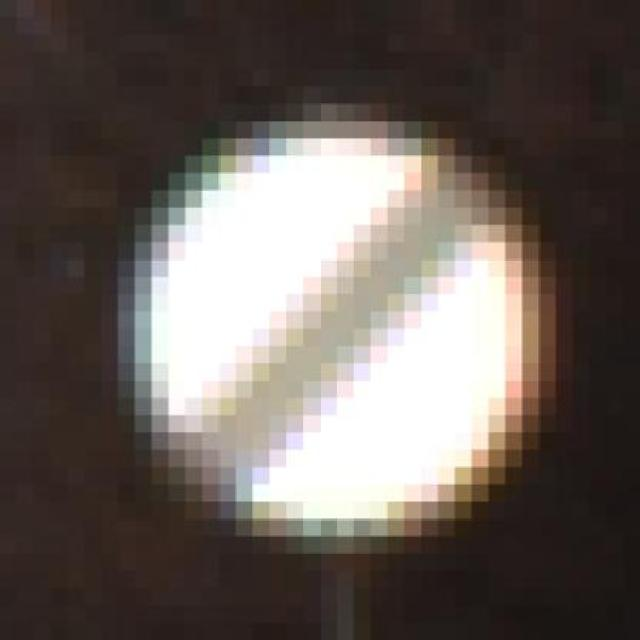End of all speed and passing limits: (84, 86, 590, 571)
